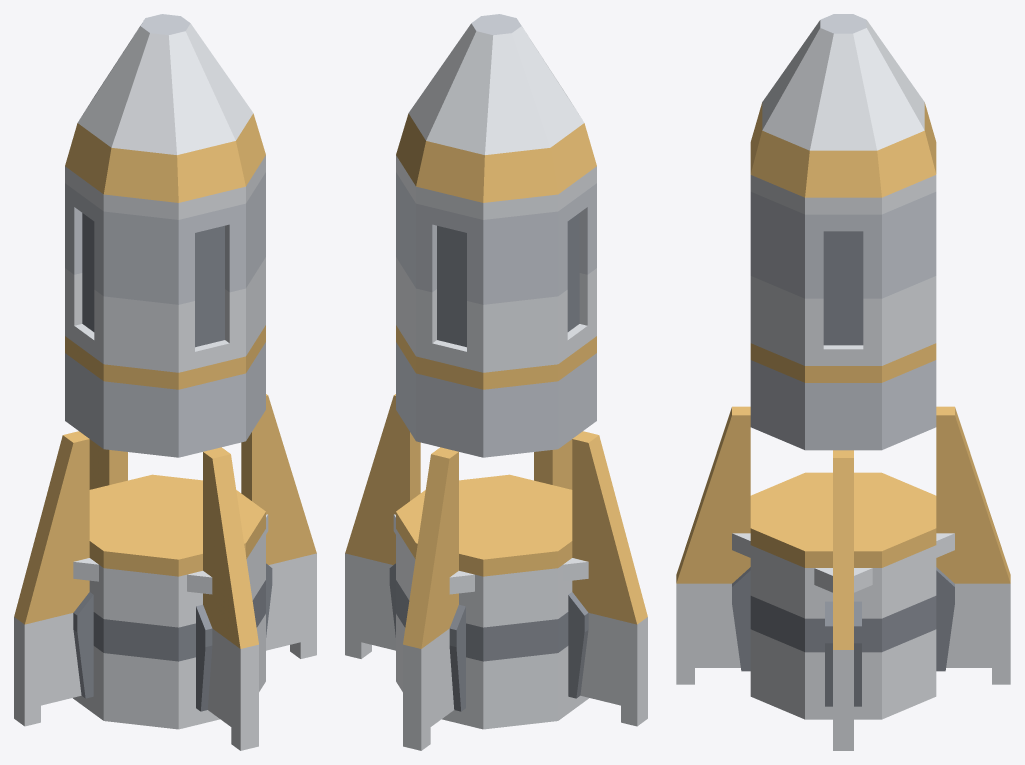
The model's file is rocket.glb.
3 views of the same model, side by side, from view 1: azimuth 30°, elevation 25°; view 2: azimuth 150°, elevation 25°; view 3: azimuth 270°, elevation 25° (orthographic).
Visible parts, largest first — view 1: rocket_baseA, rocket_sidesA, rocket_topA, rocket_fuelA, rocket_finsA; view 2: rocket_baseA, rocket_sidesA, rocket_topA, rocket_fuelA, rocket_finsA; view 3: rocket_baseA, rocket_sidesA, rocket_topA, rocket_finsA, rocket_fuelA.
Boxes of the visible parts, x1=… form: rocket_baseA: x1=14, y1=394, x2=316, y2=750; rocket_sidesA: x1=65, y1=155, x2=265, y2=372; rocket_topA: x1=65, y1=14, x2=265, y2=202; rocket_fuelA: x1=65, y1=325, x2=265, y2=457; rocket_finsA: x1=73, y1=563, x2=272, y2=729; rocket_baseA: x1=345, y1=394, x2=647, y2=750; rocket_sidesA: x1=396, y1=155, x2=596, y2=372; rocket_topA: x1=396, y1=14, x2=596, y2=202; rocket_fuelA: x1=396, y1=325, x2=596, y2=457; rocket_finsA: x1=389, y1=563, x2=588, y2=729; rocket_baseA: x1=676, y1=406, x2=1010, y2=750; rocket_sidesA: x1=750, y1=175, x2=936, y2=365; rocket_topA: x1=750, y1=14, x2=936, y2=197; rocket_finsA: x1=732, y1=567, x2=954, y2=719; rocket_fuelA: x1=750, y1=343, x2=936, y2=450.
Bounding box in the file's own units: 1.8 × 3.9 × 1.8.
